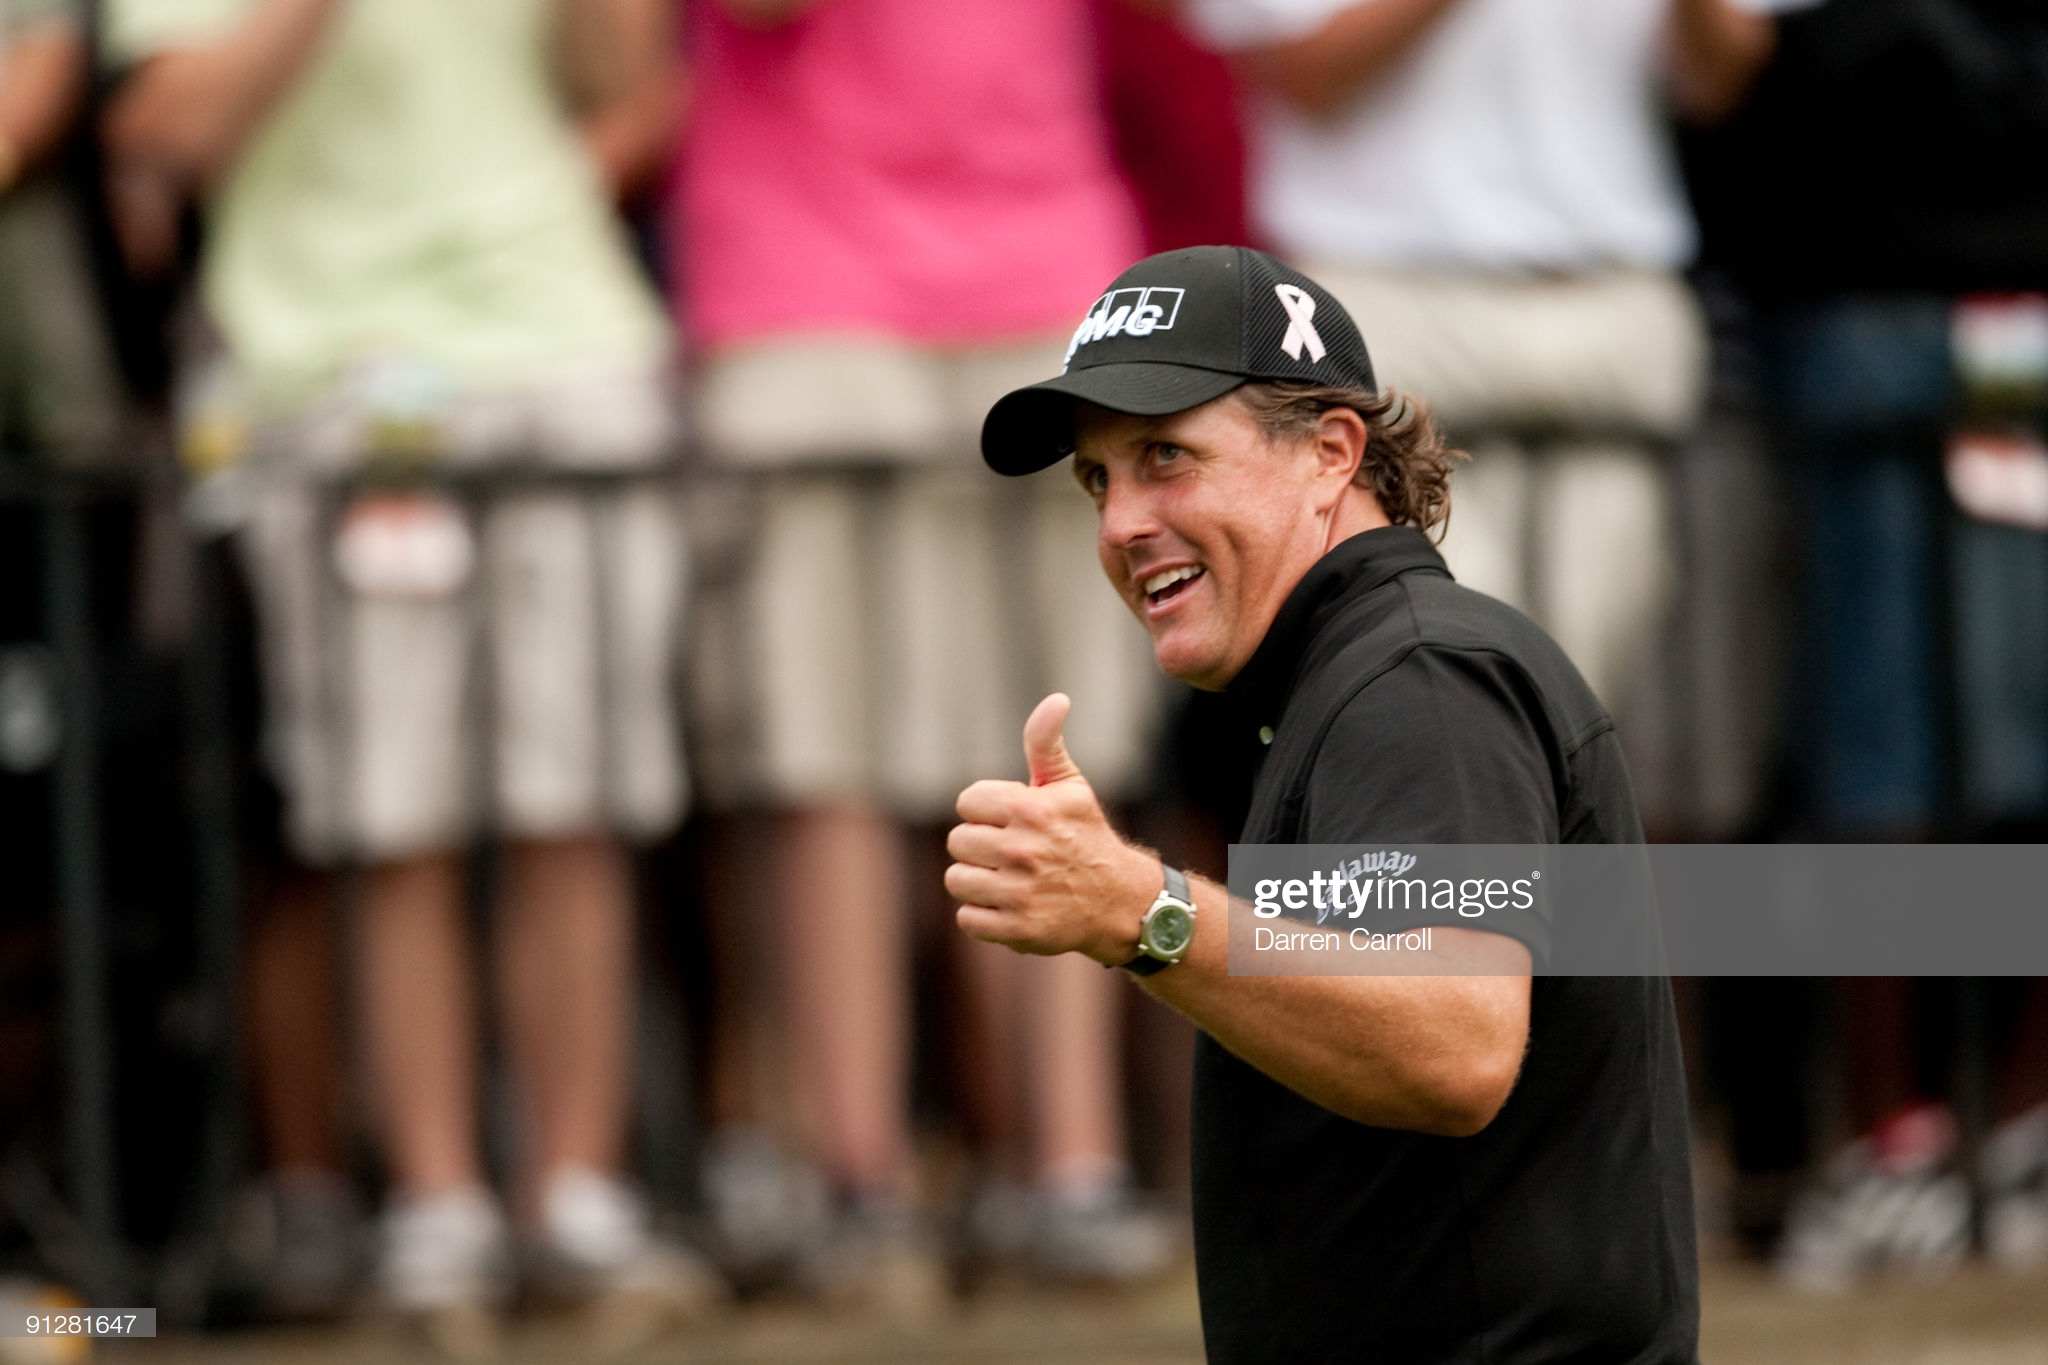thumbsup: (943, 692, 1080, 954)
